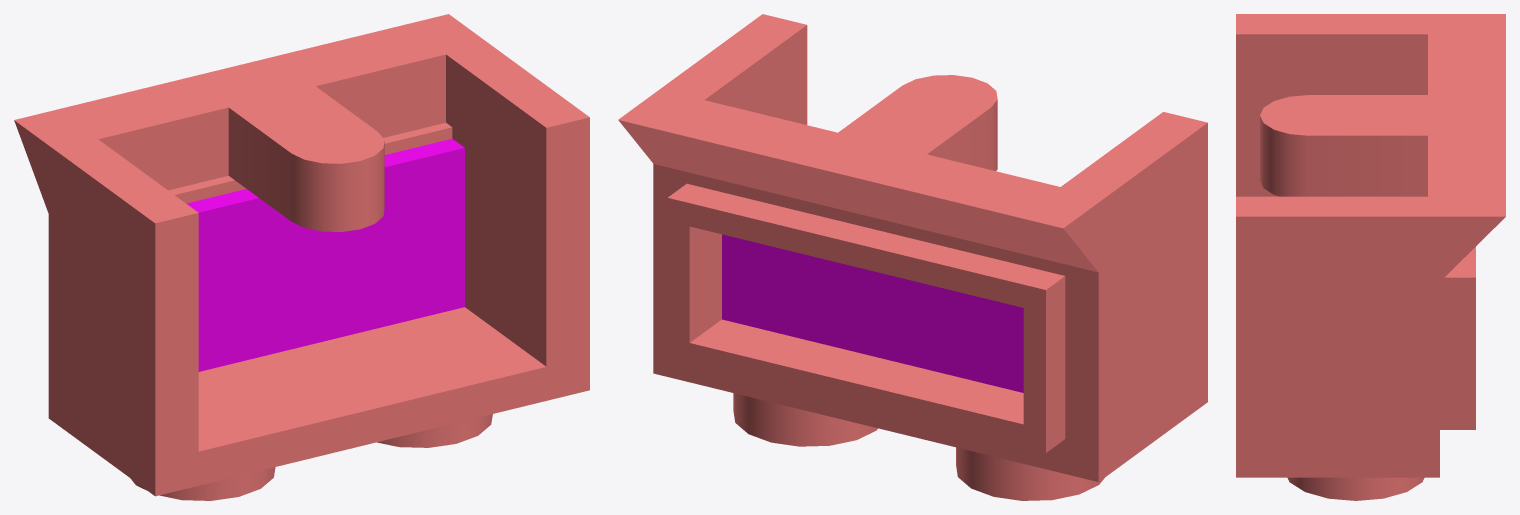
3 views of the same model, side by side, from view 1: azimuth 30°, elevation 25°; view 2: azimuth 150°, elevation 25°; view 3: azimuth 270°, elevation 25° (orthographic). The views are drawn at different scales.
Parts seen in each view (by area): view 1: 27b.dat, 846.dat; view 2: 27b.dat, 846.dat; view 3: 27b.dat.
Part boxes in pixels (<box>): 27b.dat: <box>14,14,589,500</box>; 846.dat: <box>186,138,464,371</box>; 27b.dat: <box>618,14,1207,500</box>; 846.dat: <box>722,234,1023,392</box>; 27b.dat: <box>1236,14,1505,500</box>.
Size of the model in its own units: 0.28 by 0.196 by 0.1575.
